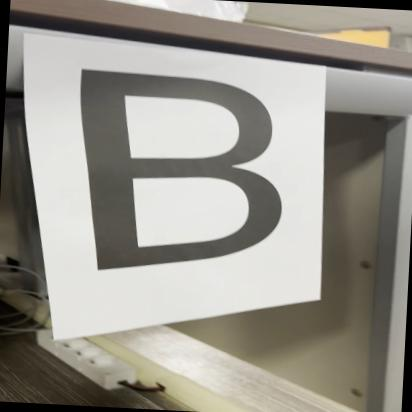seat: (58, 59, 286, 284)
